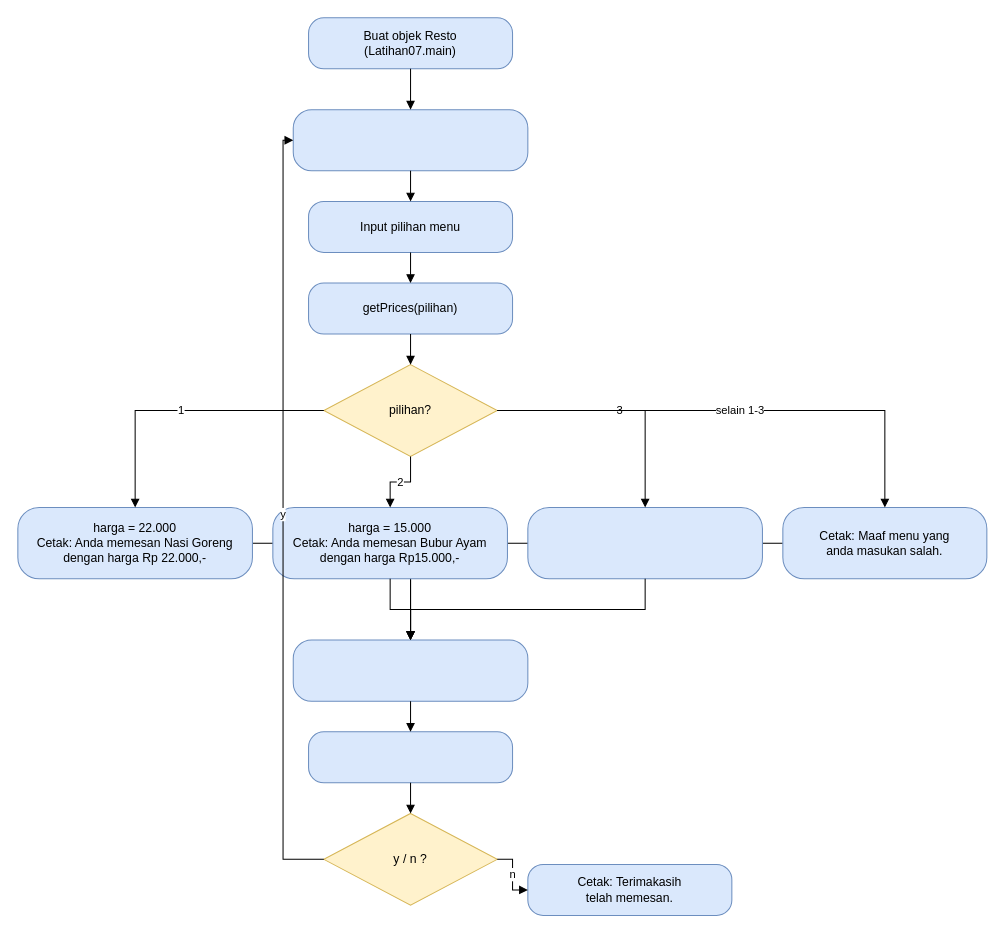
Some shapes in this 1005 by 933 pixel diagram are drawn without their labels. The centre of each missing label's shape, as x and y in pixels:
"harga = 25.000 Cetak: Anda memesan Soto Ayam dengan harga Rp 25.000,-" belongs at (644,542).
"Input pilihan y/n" belongs at (410,757).
"Tampilkan menu sarapan 1. Nasi Goreng 2. Bubur Ayam 3. Soto Ayam (chooseMenu)" belongs at (410,140).
"Tampilkan: Apakah anda akan memesan kembali ? (y/n)" belongs at (410,670).
